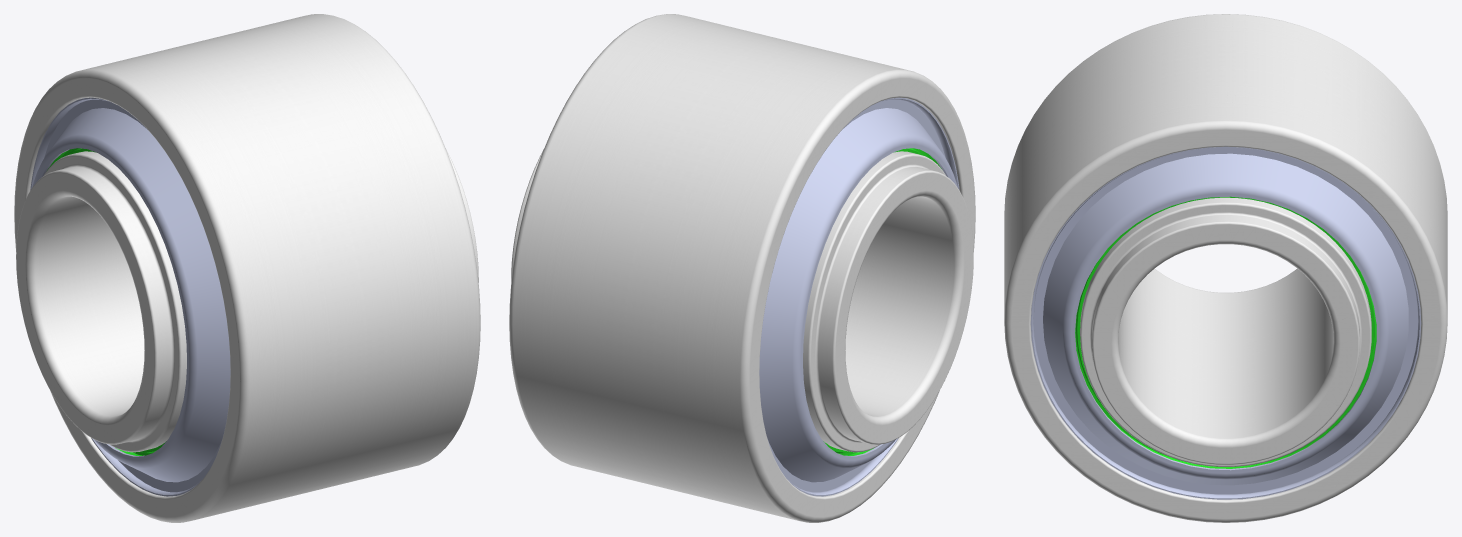
The model's file is 5206-KPP3.glb.
3 views of the same model, side by side, from view 1: azimuth 30°, elevation 25°; view 2: azimuth 150°, elevation 25°; view 3: azimuth 270°, elevation 25° (orthographic). The views are drawn at different scales.
Parts seen in each view (by area): view 1: texture-2, texture, color; view 2: texture-2, texture, color; view 3: texture-2, texture, color, texture-3.
Boxes of the visible parts, bbox=[...] form: texture-2: bbox=[14, 14, 480, 522]; texture: bbox=[16, 149, 478, 452]; color: bbox=[30, 97, 230, 496]; texture-2: bbox=[509, 14, 975, 522]; texture: bbox=[511, 149, 973, 452]; color: bbox=[759, 97, 959, 496]; texture-2: bbox=[1004, 14, 1447, 522]; texture: bbox=[1080, 197, 1371, 466]; color: bbox=[1030, 146, 1421, 499]; texture-3: bbox=[1075, 196, 1376, 468].
Bounding box in the file's own units: 0.05 × 0.062 × 0.062.
6 materials, 4 textured.
